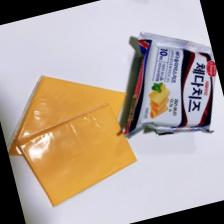cheese: (0, 56, 136, 165), (11, 100, 143, 212)
